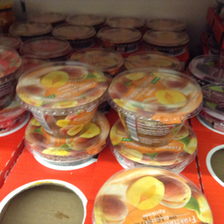jam: (109, 68, 203, 147), (15, 61, 107, 137), (93, 167, 214, 224), (18, 35, 71, 60), (141, 28, 189, 53), (97, 27, 142, 52), (52, 23, 96, 48), (8, 20, 53, 38)
